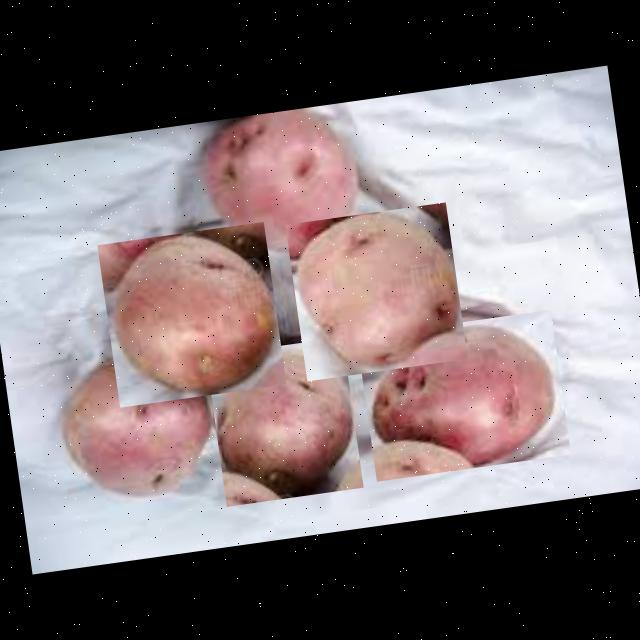Defected potato: (357, 309, 571, 482), (98, 222, 286, 408), (286, 202, 468, 382), (48, 347, 225, 512), (192, 102, 367, 265), (206, 337, 364, 507)
